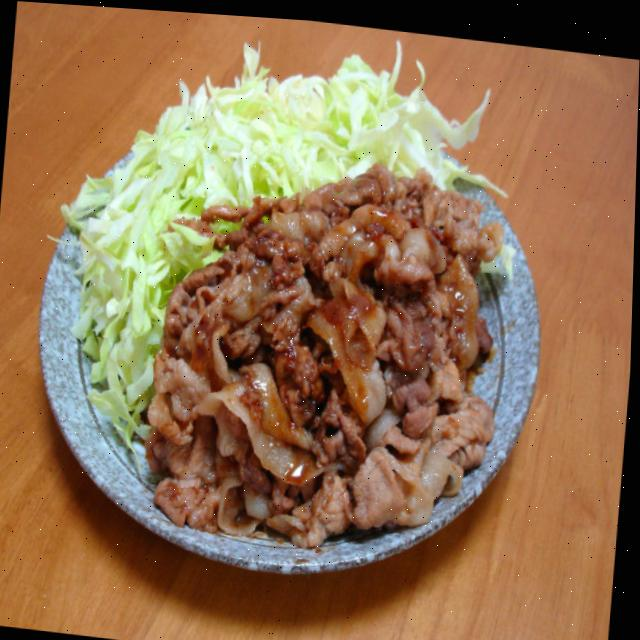猪肉菜式: (10, 28, 576, 613)
